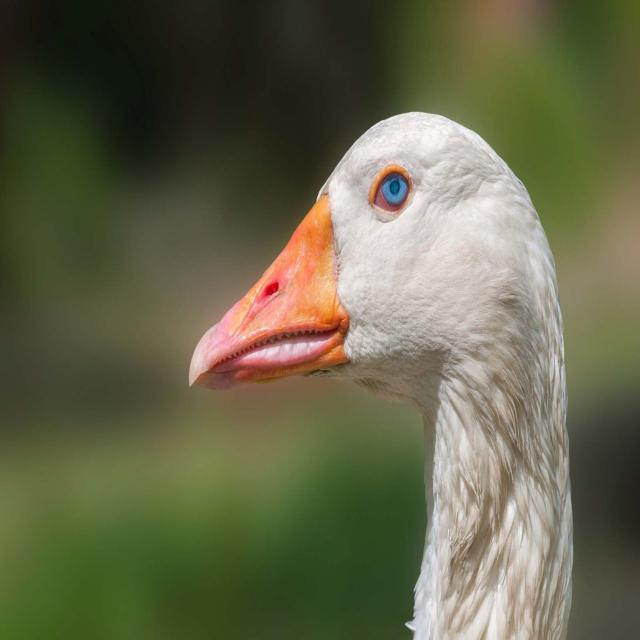Goose: (185, 99, 581, 640)
